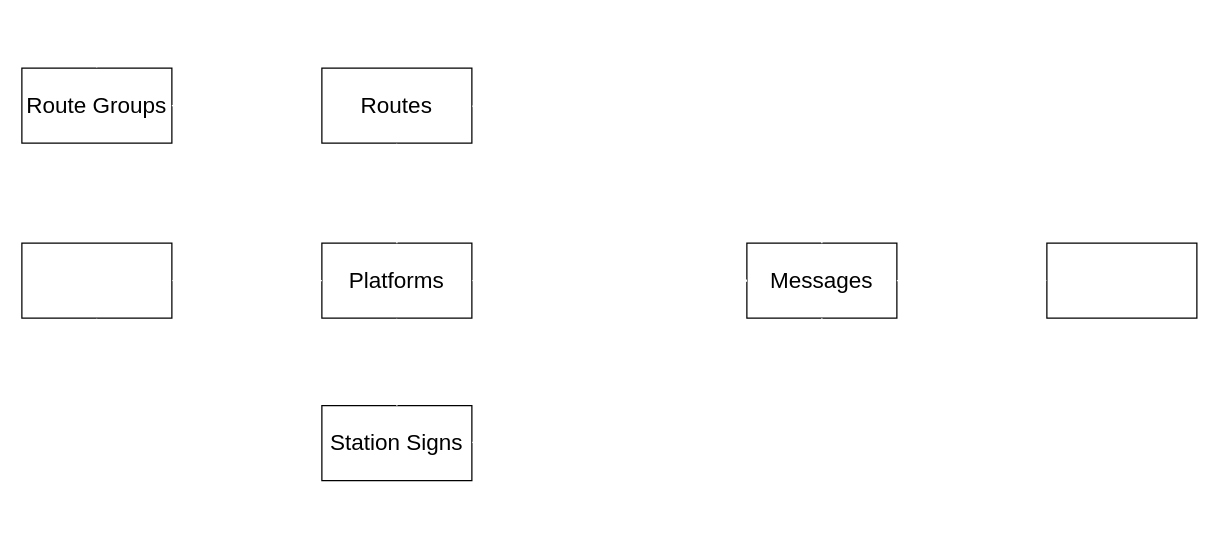
The diagram is 1219 pixels wide and 550 high, and some of its shapes have lost their labels. The shapes that lost their labels are listed below. From the top down, each one's box as (x1, y1, x2, y2) in pixels, then its label:
(21, 242, 172, 318): Stations
(1046, 242, 1197, 318): Images
